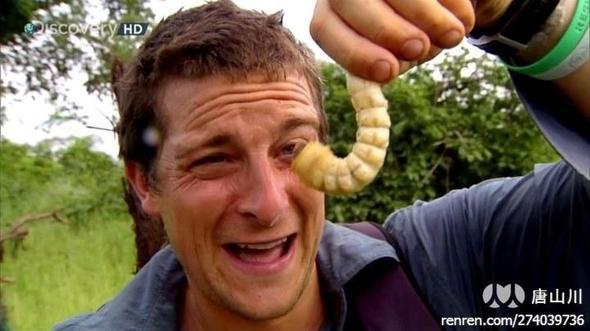grub: (298, 62, 395, 204)
